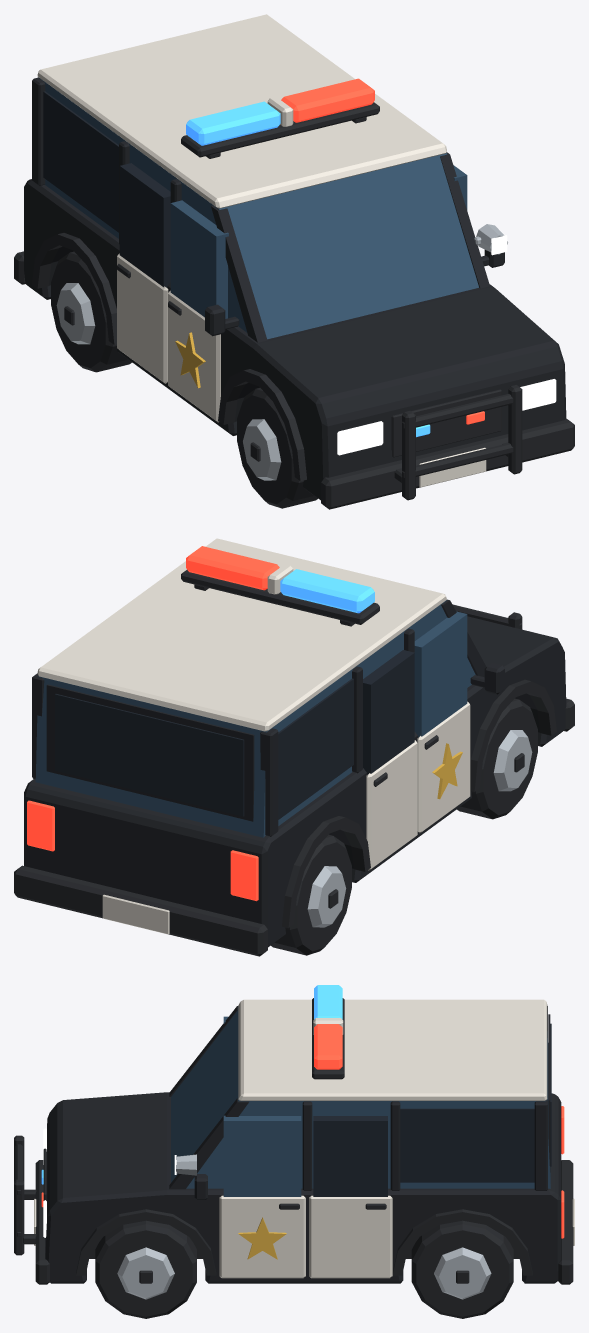
File: low-poly-police-suv.glb
3 renders of one model, top to bottom at view 1: azimuth 30°, elevation 25°; view 2: azimuth 150°, elevation 25°; view 3: azimuth 270°, elevation 25°, orthographic. The views are drawn at different scales.
Visible parts, largest first — view 1: Body, Roof, Cabin_Glass, QuarterWindow_R, FrontBumper, Door_FR_Window, Door_RR_Window, Door_RR, Door_FR, Wheel_FR, Wheel_RR, Grille (+18 smaller); view 2: Roof, Body, RearWindow, Cabin_Glass, RearBumper, QuarterWindow_R, Door_FR_Window, Door_RR_Window, Door_RR, Door_FR, RearWindowFrame, Wheel_RR (+17 smaller); view 3: Body, Roof, Cabin_Glass, QuarterWindow_L, Door_RL, Door_FL_Window, Door_FL, Wheel_RL, Wheel_FL, Door_RL_Window, ArchFlare_L_R, ArchFlare_L_F (+15 smaller).
Part boxes in pixels (x1=…): Body: x1=24, y1=179, x2=566, y2=500; Roof: x1=37, y1=14, x2=446, y2=208; Cabin_Glass: x1=38, y1=77, x2=478, y2=339; QuarterWindow_R: x1=43, y1=91, x2=118, y2=232; FrontBumper: x1=321, y1=418, x2=574, y2=509; Door_FR_Window: x1=170, y1=200, x2=228, y2=318; Door_RR_Window: x1=119, y1=163, x2=170, y2=287; Door_RR: x1=117, y1=253, x2=168, y2=383; Door_FR: x1=168, y1=290, x2=220, y2=422; Wheel_FR: x1=237, y1=388, x2=317, y2=508; Wheel_RR: x1=51, y1=251, x2=131, y2=372; Grille: x1=391, y1=389, x2=501, y2=457; Roof: x1=37, y1=538, x2=446, y2=731; Body: x1=24, y1=616, x2=566, y2=947; RearWindow: x1=55, y1=694, x2=244, y2=816; Cabin_Glass: x1=35, y1=600, x2=475, y2=837; RearBumper: x1=14, y1=865, x2=267, y2=956; QuarterWindow_R: x1=278, y1=678, x2=353, y2=819; Door_FR_Window: x1=414, y1=611, x2=467, y2=737; Door_RR_Window: x1=363, y1=650, x2=414, y2=774; Door_RR: x1=366, y1=740, x2=417, y2=870; Door_FR: x1=417, y1=701, x2=470, y2=833; RearWindowFrame: x1=46, y1=684, x2=254, y2=821; Wheel_RR: x1=271, y1=835, x2=351, y2=955; Body: x1=45, y1=1092, x2=561, y2=1283; Roof: x1=238, y1=999, x2=547, y2=1100; Cabin_Glass: x1=171, y1=1007, x2=550, y2=1188; QuarterWindow_L: x1=400, y1=1108, x2=534, y2=1182; Door_RL: x1=309, y1=1195, x2=392, y2=1278; Door_FL_Window: x1=223, y1=1115, x2=301, y2=1196; Door_FL: x1=219, y1=1195, x2=305, y2=1278; Wheel_RL: x1=411, y1=1220, x2=513, y2=1318; Wheel_FL: x1=95, y1=1220, x2=196, y2=1318; Door_RL_Window: x1=313, y1=1116, x2=387, y2=1196; ArchFlare_L_R: x1=392, y1=1209, x2=532, y2=1275; ArchFlare_L_F: x1=76, y1=1209, x2=216, y2=1275.
Bounding box in the file's own units: 9.7 × 9.25 × 18.79.
